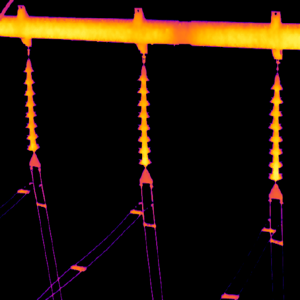insulator: (268, 71, 283, 181), (24, 57, 39, 151), (137, 63, 150, 165)
